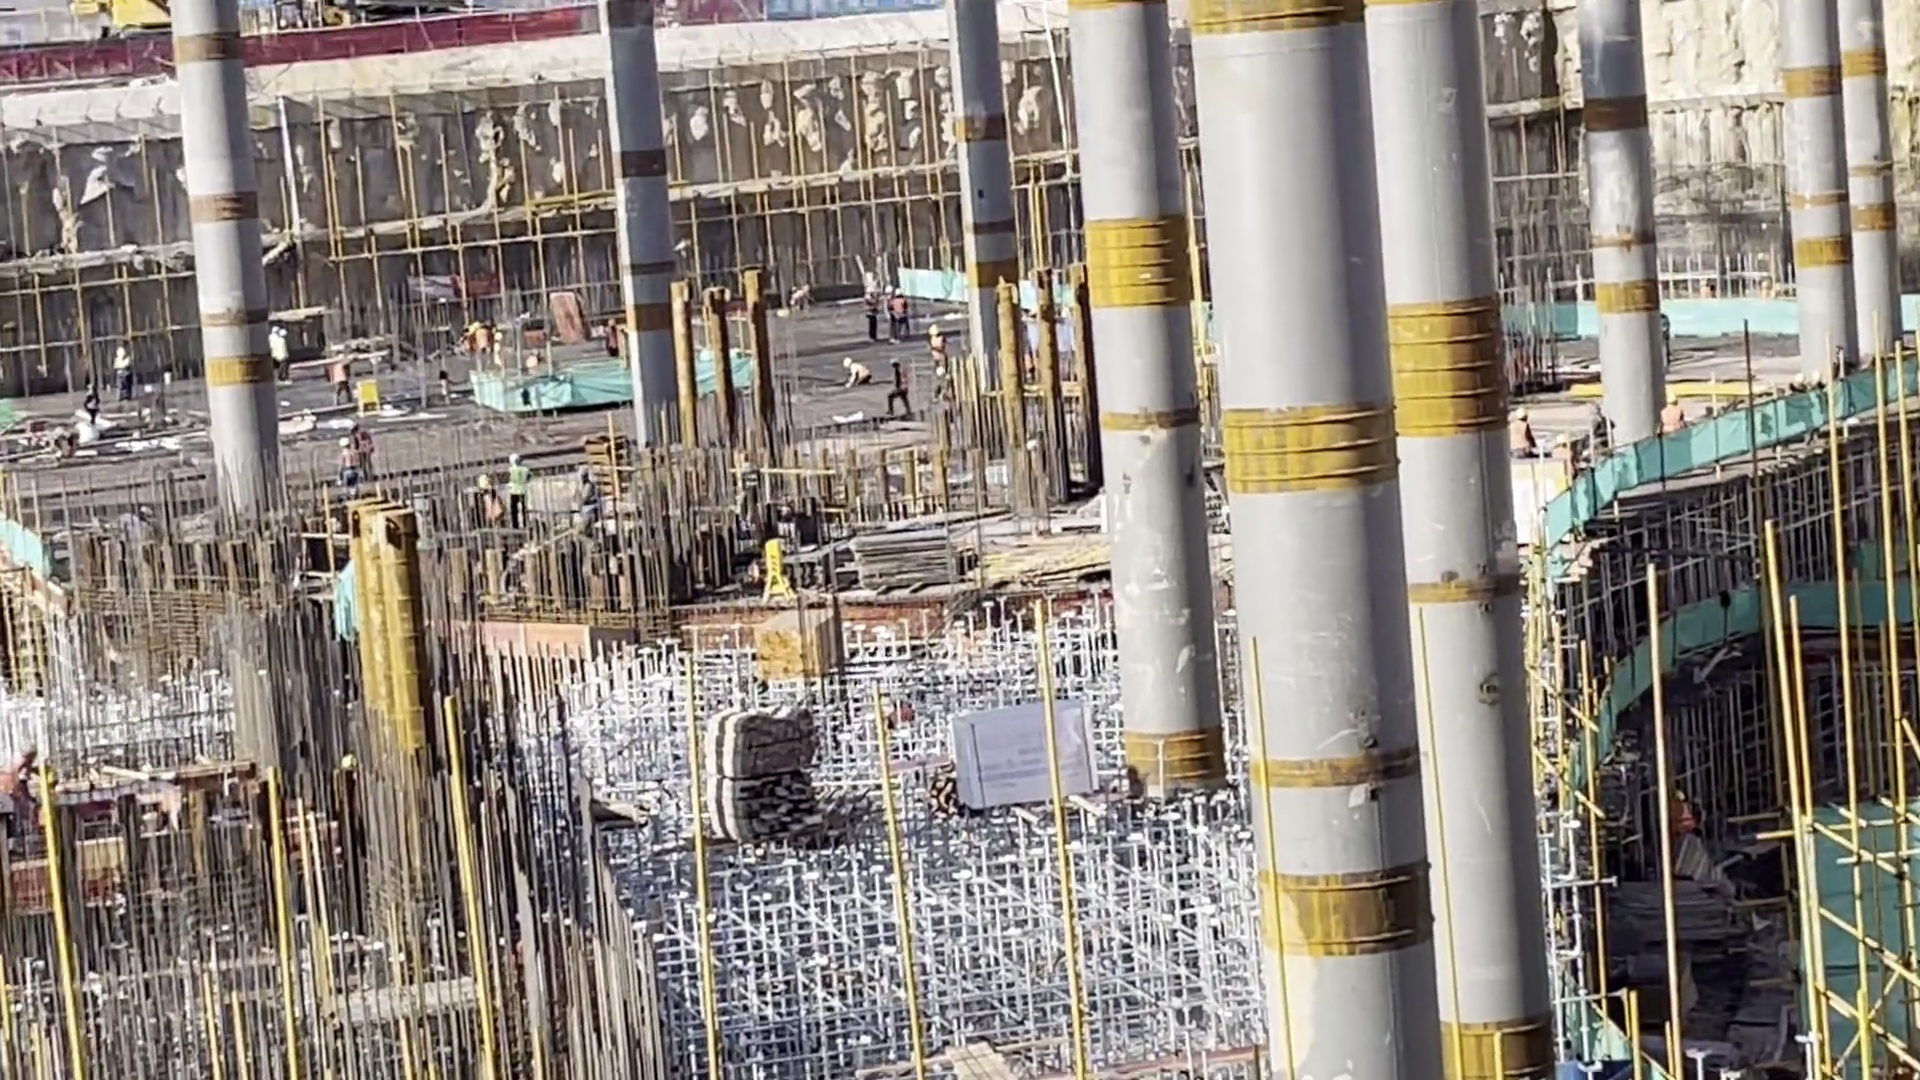person: (506, 455, 531, 527), (1503, 406, 1531, 464), (1656, 392, 1686, 438), (113, 346, 136, 406), (927, 325, 949, 373), (892, 289, 912, 339), (332, 352, 351, 406), (862, 287, 881, 342), (473, 321, 492, 373), (843, 356, 873, 387), (340, 434, 358, 482), (276, 330, 291, 379)
